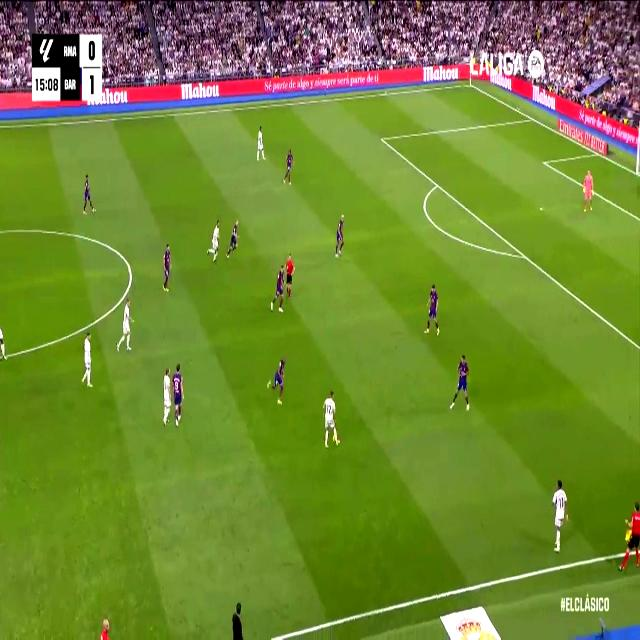bigarea_top_inner: (378, 130, 386, 146)
bigarea_top_outter: (528, 112, 534, 123)
bottom_arc_area_intersection: (519, 248, 529, 264)
corner: (466, 78, 474, 89)
smallarea_top_inner: (541, 156, 547, 168)
top_arc_area_intersection: (433, 176, 441, 192)
